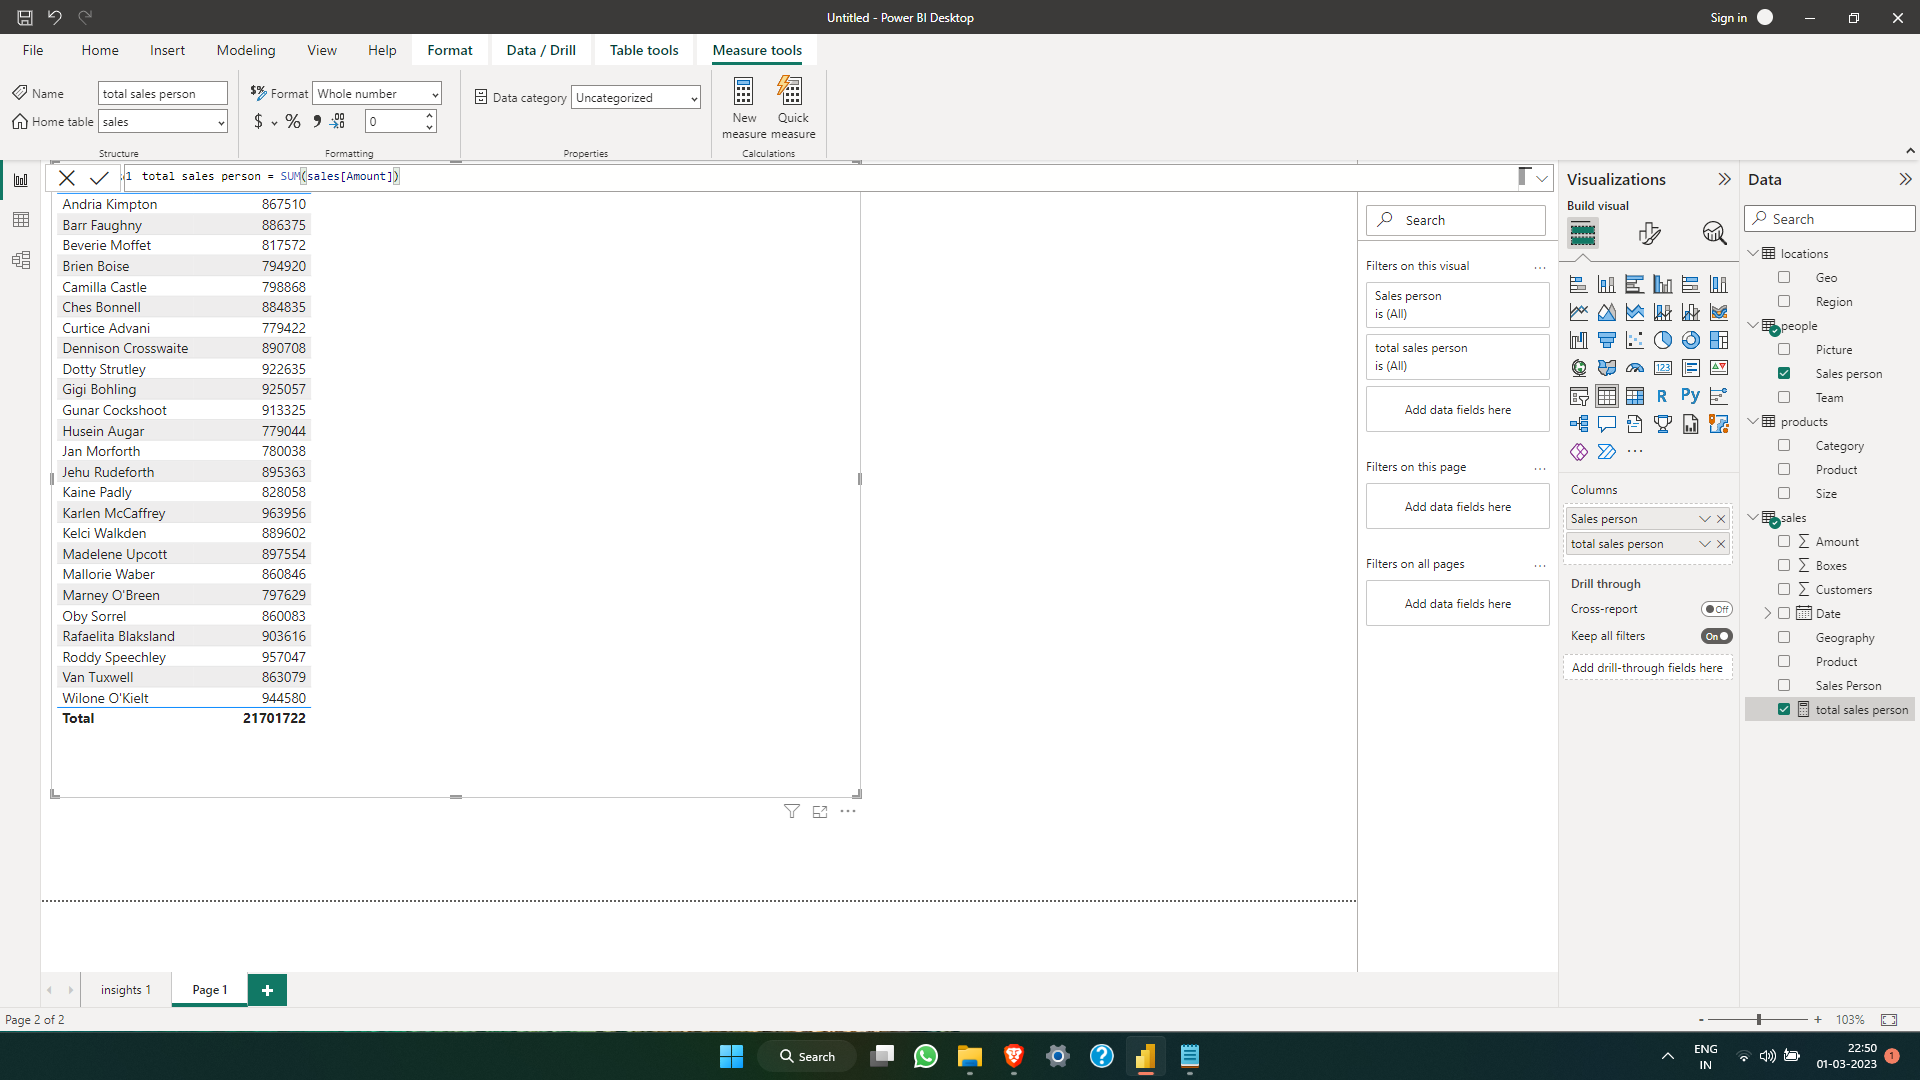

What the dashboard file says about the page in this screenshot:
{"tool":"powerbi","page":{"name":"analytics expression with slicer","canvas":[1280,720],"ordinal":1},"visuals":[{"type":"tableEx","fields":{"Values":["people.Sales person","sales.total sales person","Sum(sales.Boxes)","Sum(sales.Amount)"]},"box":[0,18.5,703.2,620.5],"z":0},{"type":"slicer","fields":{"Values":["people.Team"]},"box":[783,18.5,266.5,212],"z":1000}]}

Visuals, with their boxes on the page's 1280x720 design canvas (x1, y1, x2, y2). These are canvas units, not pixel positions in the 1920x1080 screenshot, which may show the page scaled, cropped or inside an application window:
tableEx - people.Sales person x sales.total sales person: 0,18,703,639
slicer - people.Team: 783,18,1050,230
